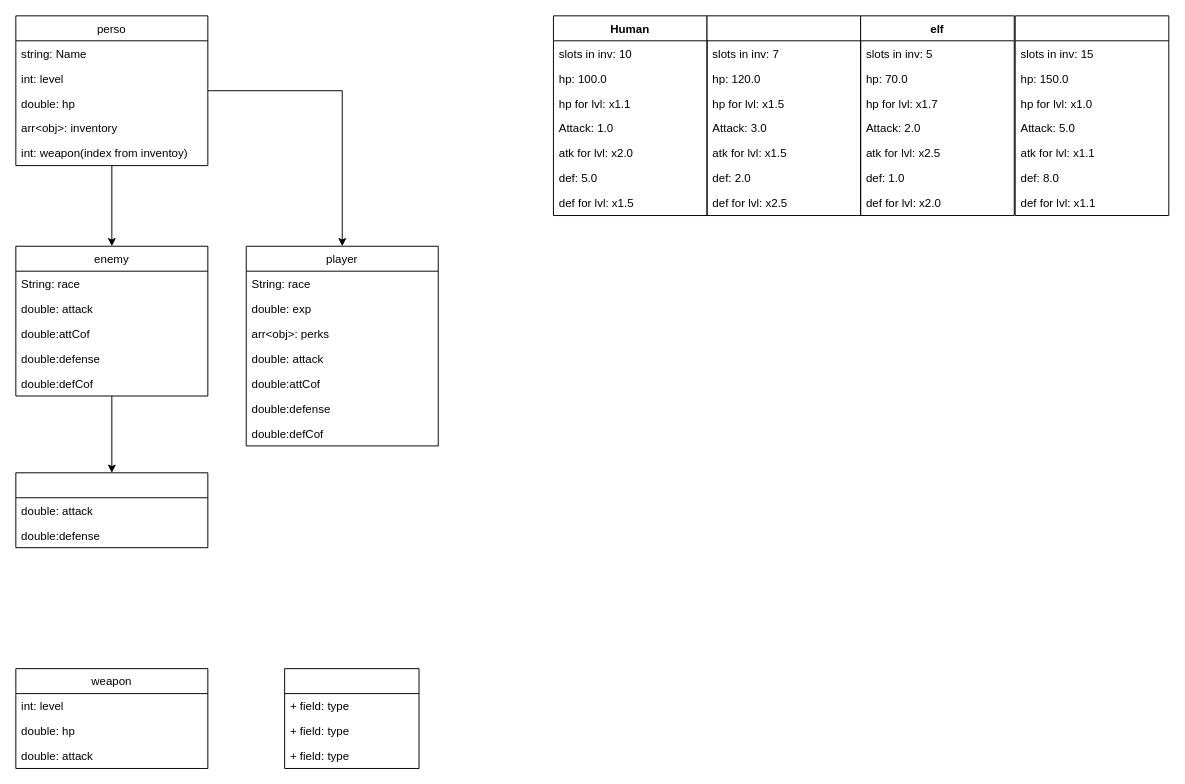
Some shapes in this 1185 by 784 pixel diagram are drawn without their labels. Here are the shapes that lost their labels. From the top down, the box of each, then its label:
(706, 15, 861, 216): gnome
(1014, 15, 1169, 216): orc
(15, 472, 208, 548): boss
